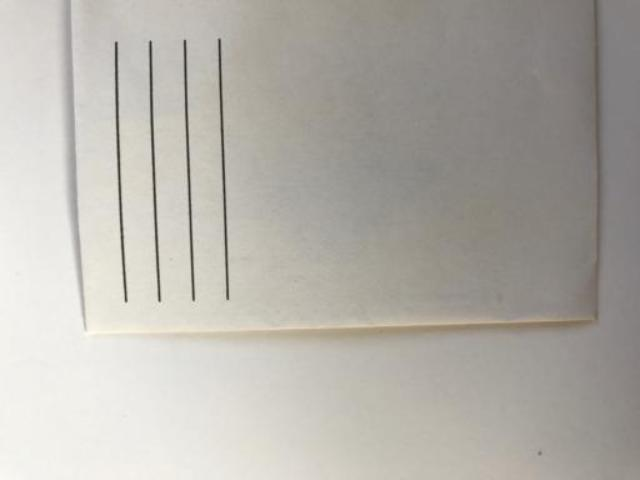cardboard paper: (70, 0, 595, 330)
